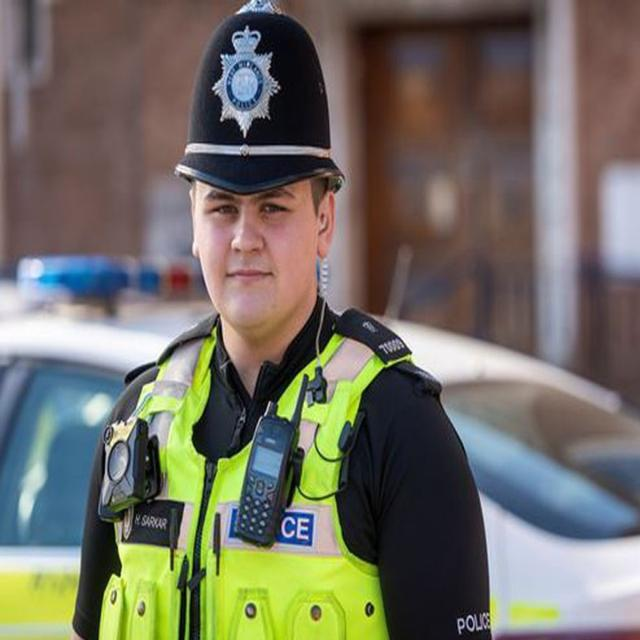police: (59, 11, 480, 640)
